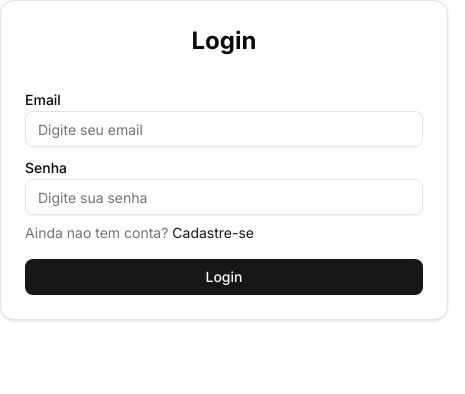
it: LoginForm › mostra erro se signIn retornar erro
The image size is (465, 394).
Step 1. Type "user@email.com" into the field labelled "Email" → {"x": 224, "y": 129}, box x1=25 y1=111 x2=423 y2=147
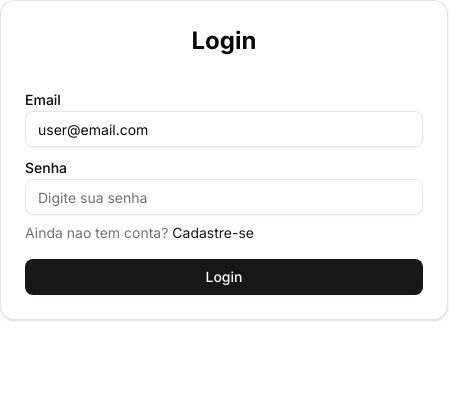
Step 2. Type "12345678" into the password field labelled "Senha" → {"x": 224, "y": 197}, box x1=25 y1=179 x2=423 y2=215
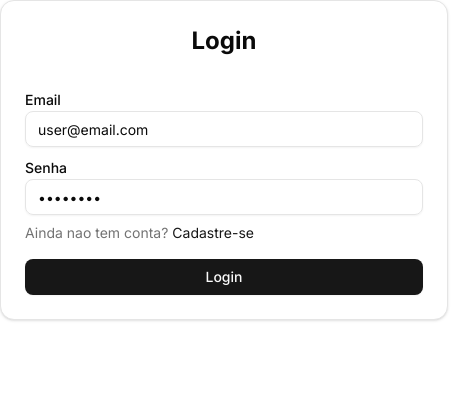
Step 3. Click the button "Login" → {"x": 224, "y": 277}, box x1=25 y1=259 x2=423 y2=295
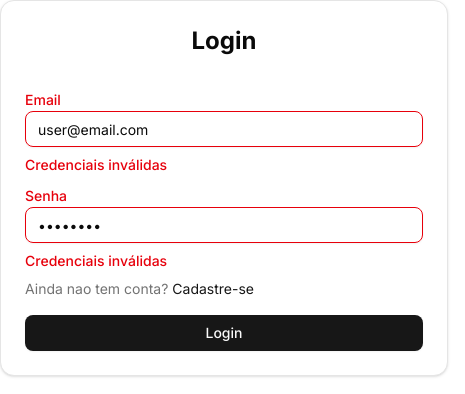
Now the text "Credenciais inválidas" is shown 2 times, box x1=25 y1=156 x2=167 y2=173; x1=25 y1=252 x2=167 y2=269
